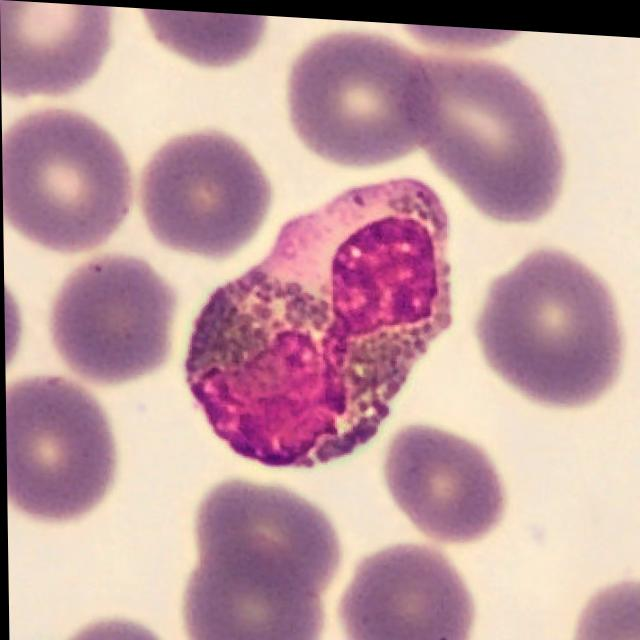Eosinofilo: (184, 174, 452, 462)
